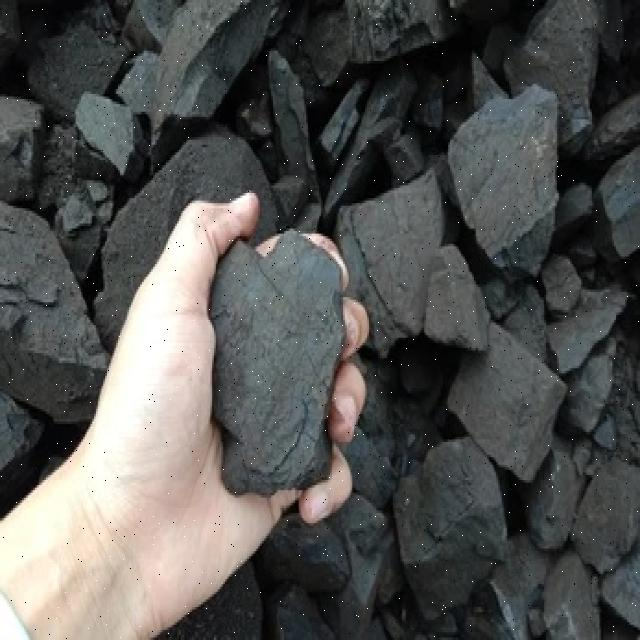Sedimentary: (2, 350, 144, 640), (444, 76, 564, 277), (327, 157, 458, 340), (384, 437, 516, 609), (446, 302, 564, 472)
